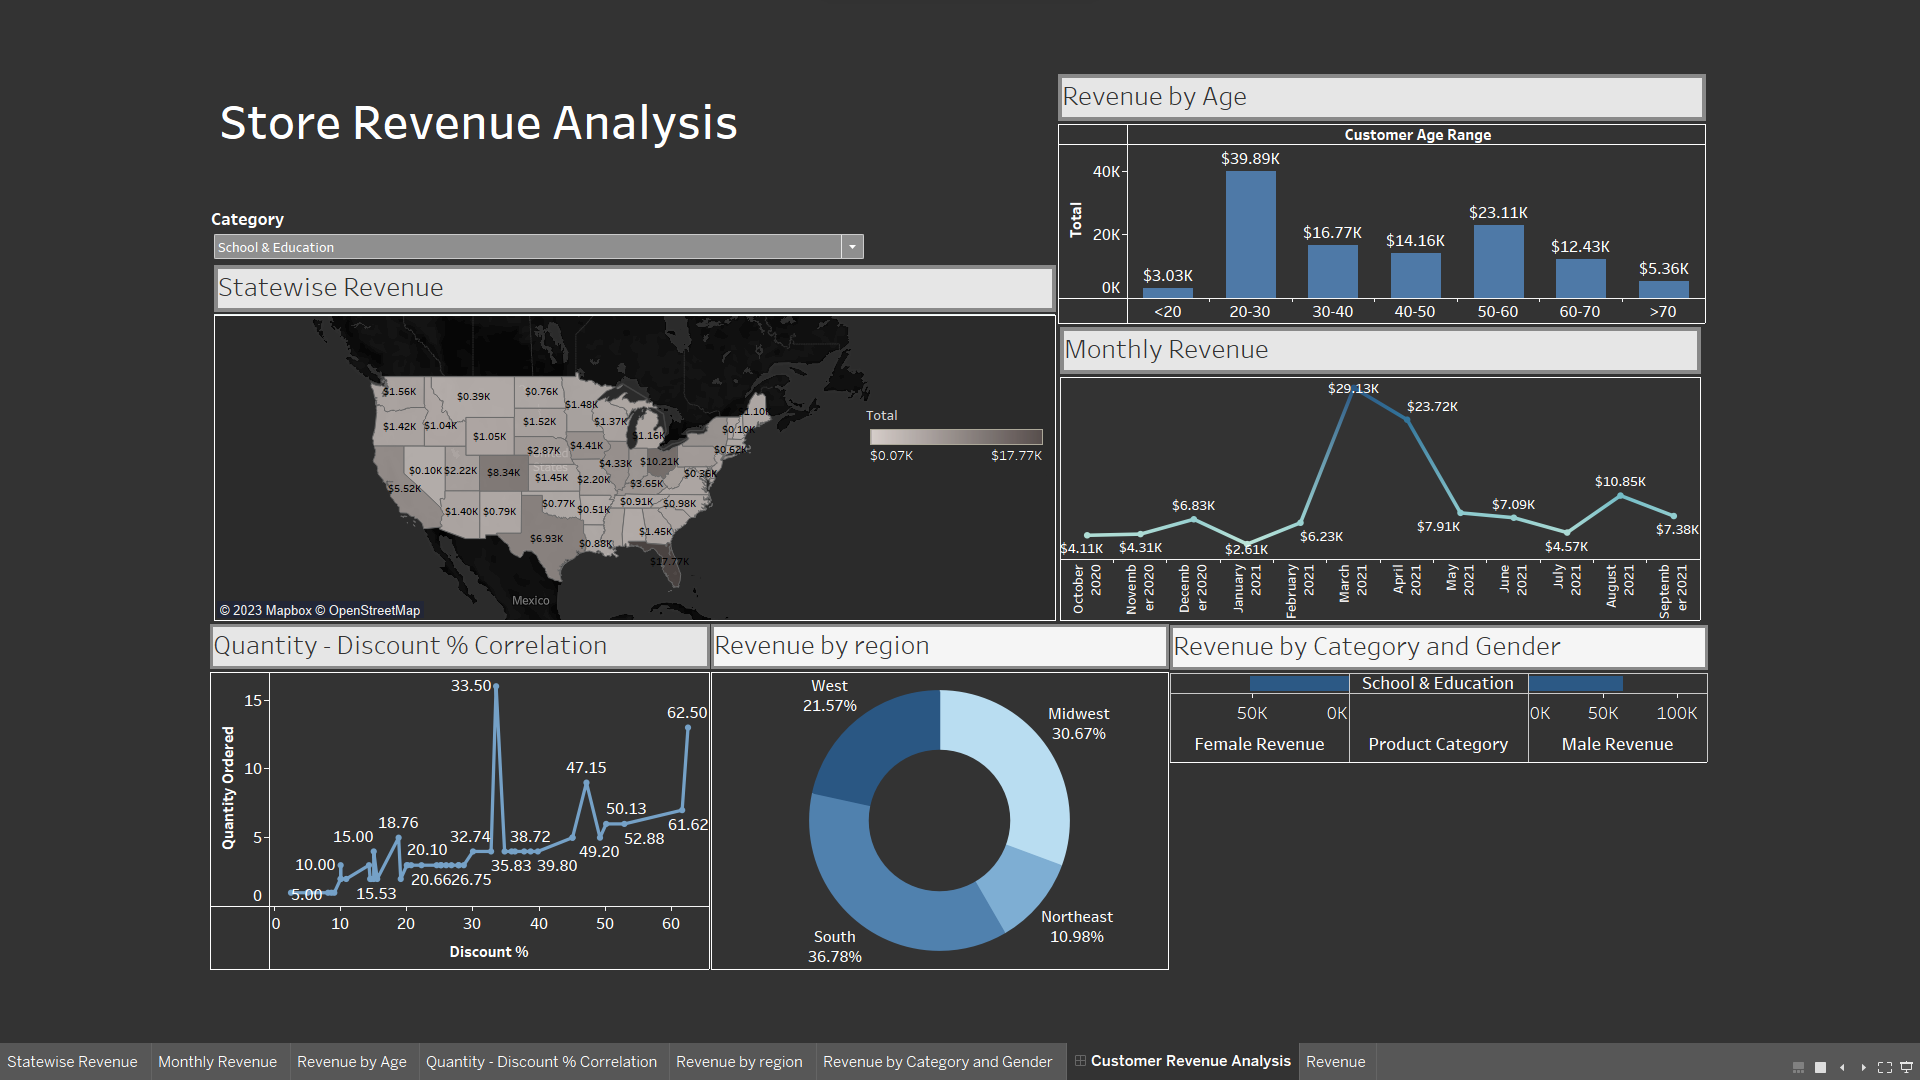

This screenshot's page, from the dashboard's own definition file:
{"tool":"tableau","page":{"name":"Customer Revenue Analysis","canvas":[1500,900],"ordinal":0},"visuals":[{"type":"worksheet","title":"Revenue by Age","mark":"Automatic","rows":["TOTAL"],"cols":["AGE (bin)"],"box":[848,3,648,250]},{"type":"text","box":[6,4,811,91]},{"type":"title","box":[8,8,1484,50]},{"type":"filter","title":"Revenue by Category and Gender","param":"[federated.03jwtbb1bxogr118ijr150libtiu].[none:CATEGORY:nk]","box":[1,136,656,56]},{"type":"worksheet","title":"Statewise Revenue","mark":"Automatic","box":[4,194,842,356]},{"type":"worksheet","title":"Monthly Revenue","mark":"Automatic","rows":["TOTAL"],"cols":["MONTH"],"box":[850,256,641,295]},{"type":"legend","title":"Statewise Revenue","param":"[federated.03jwtbb1bxogr118ijr150libtiu].[sum:TOTAL:qk]","box":[656,335,181,75]},{"type":"worksheet","title":"Quantity - Discount % Correlation","mark":"Line","rows":["QUANTITY_ORDERED"],"cols":["DISCOUNT %"],"box":[0,553,500,346]},{"type":"worksheet","title":"Revenue by region","mark":"Pie","rows":["Calculation_1163336143163842561","Calculation_1163336143163842561"],"box":[501,553,458,346]},{"type":"worksheet","title":"Revenue by Category and Gender","mark":"Automatic","rows":["CATEGORY"],"cols":["Calculation_1163336143165546498","Calculation_1163336143163842561","Calculation_1163336143165775875"],"box":[960,554,540,345]}]}

Visuals, with their boxes on the page's 1500x900 design canvas (x1, y1, x2, y2). These are canvas units, not pixel positions in the 1920x1080 screenshot, which may show the page scaled, cropped or inside an application window:
"Revenue by Age" worksheet: l=848, t=3, r=1496, b=253
text: l=6, t=4, r=817, b=95
title: l=8, t=8, r=1492, b=58
"Revenue by Category and Gender" filter: l=1, t=136, r=657, b=192
"Statewise Revenue" worksheet: l=4, t=194, r=846, b=550
"Monthly Revenue" worksheet: l=850, t=256, r=1491, b=551
"Statewise Revenue" legend: l=656, t=335, r=837, b=410
"Quantity - Discount % Correlation" worksheet (Line marks): l=0, t=553, r=500, b=899
"Revenue by region" worksheet (Pie marks): l=501, t=553, r=959, b=899
"Revenue by Category and Gender" worksheet: l=960, t=554, r=1500, b=899
